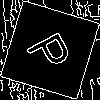P: (25, 25, 81, 76)
